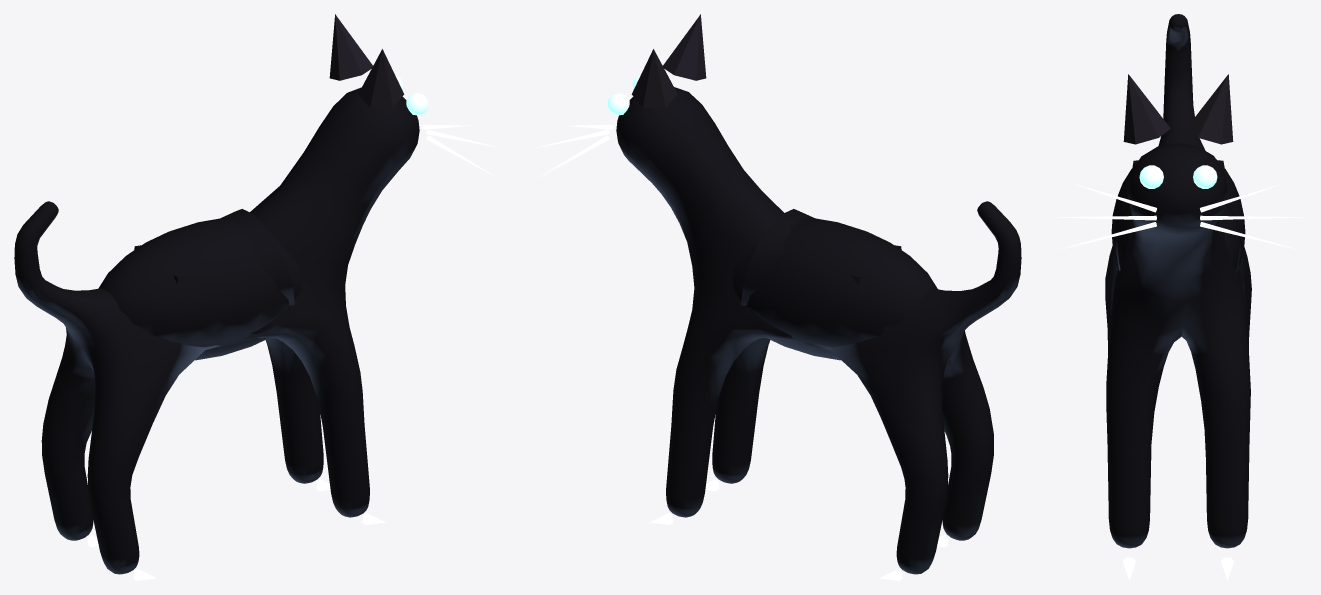
The model's file is yule-cat.glb.
The picture shows the model from 3 angles, left to right: view 1: azimuth 30°, elevation 25°; view 2: azimuth 150°, elevation 25°; view 3: azimuth 270°, elevation 25°; orthographic projection. The views are drawn at different scales.
Parts seen in each view (by area): view 1: yule-cat.001; view 2: yule-cat.001; view 3: yule-cat.001.
Boxes of the visible parts, x1,y1,x2,y2 form: yule-cat.001: [14, 14, 501, 580]; yule-cat.001: [534, 14, 1021, 580]; yule-cat.001: [1052, 14, 1304, 580].
Size of the model in its own units: 2.35 by 2.5 by 1.15.
